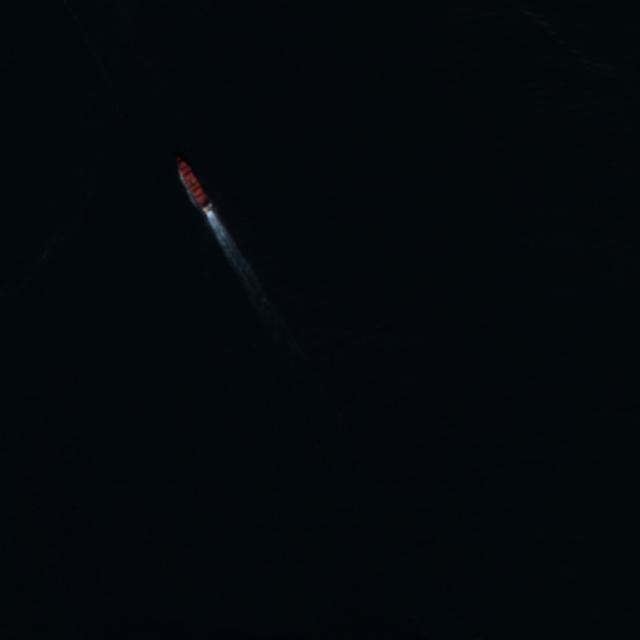Cargo: (167, 151, 218, 219)
